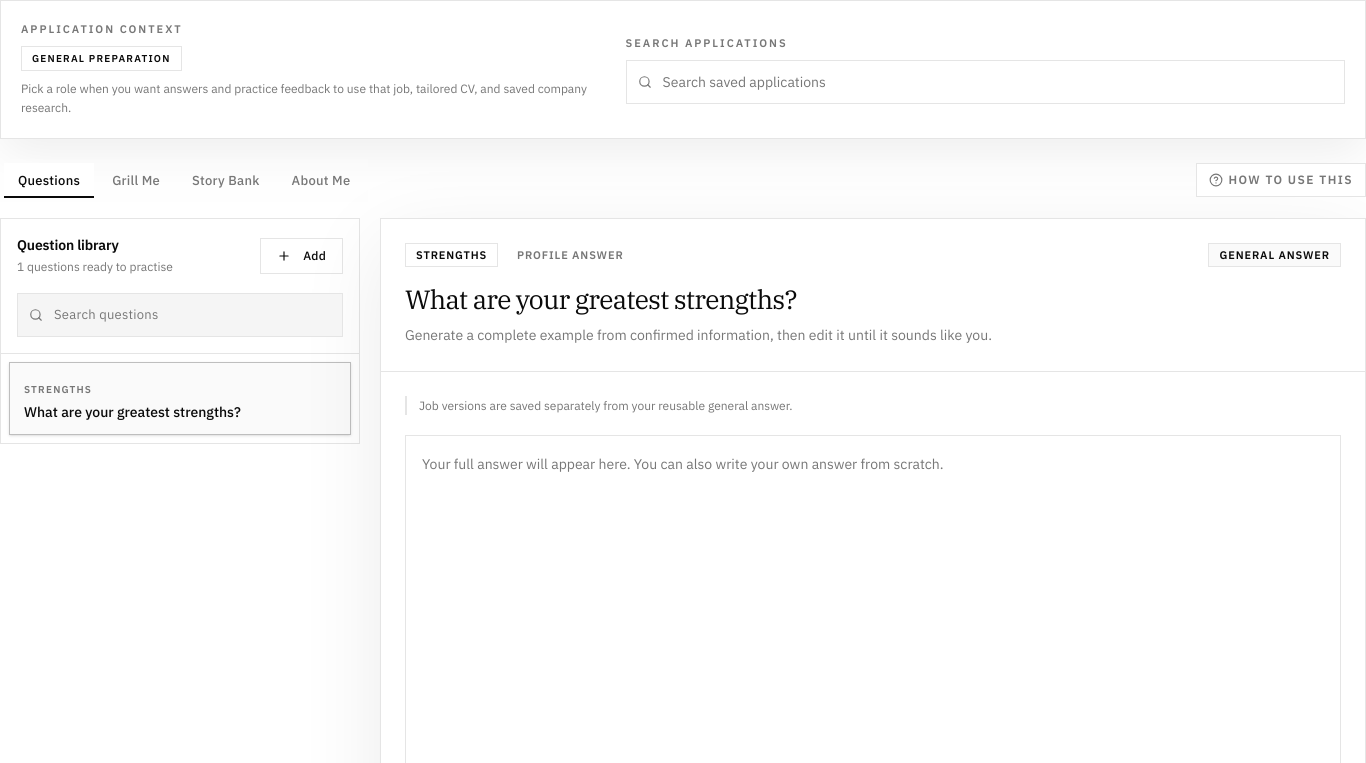
InterviewWorkspace › shows tailored CV facts for the selected job so they can be confirmed
The image size is (1366, 763).
Type "one" into the dropdown named "Application context" at (985, 82), box [626,60,1345,104]
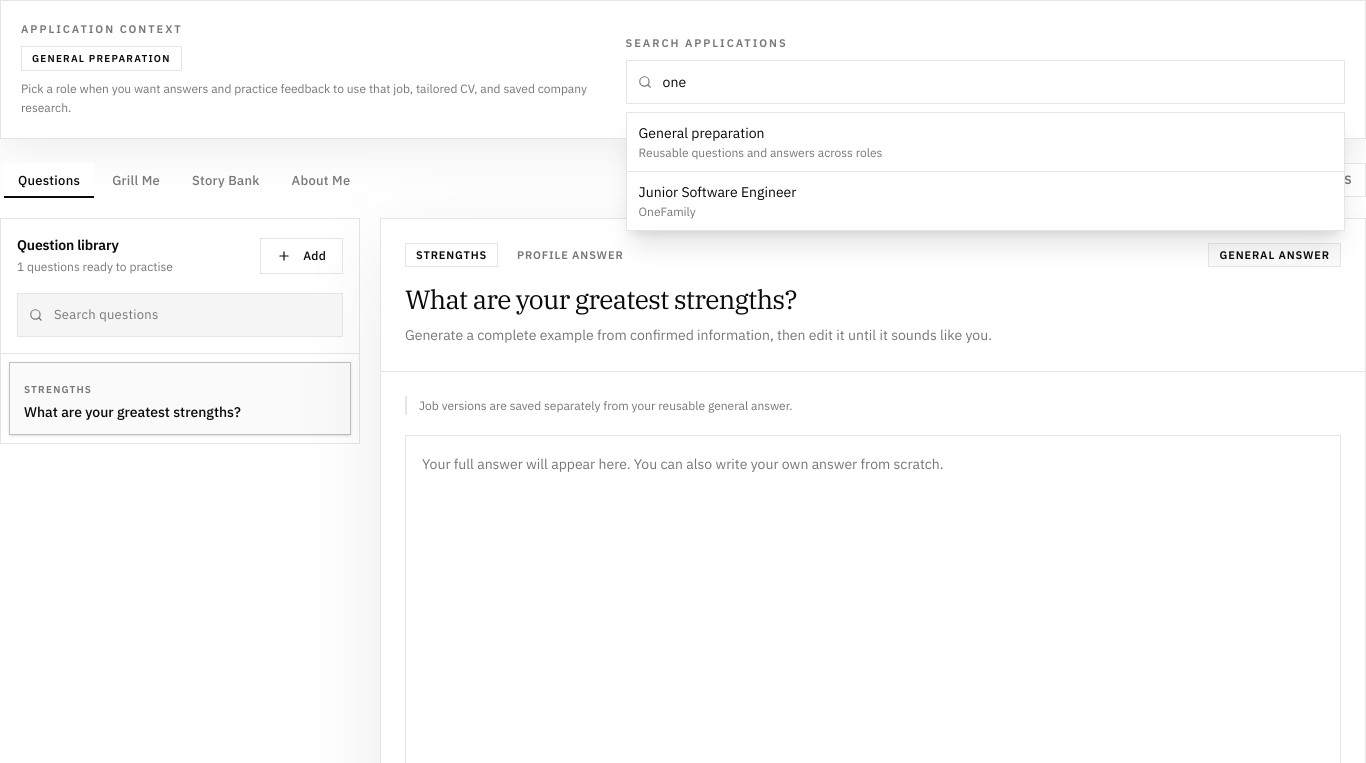
Click the button "Junior Software Engineer OneFamily" at (717, 192), box [627,172,1344,230]
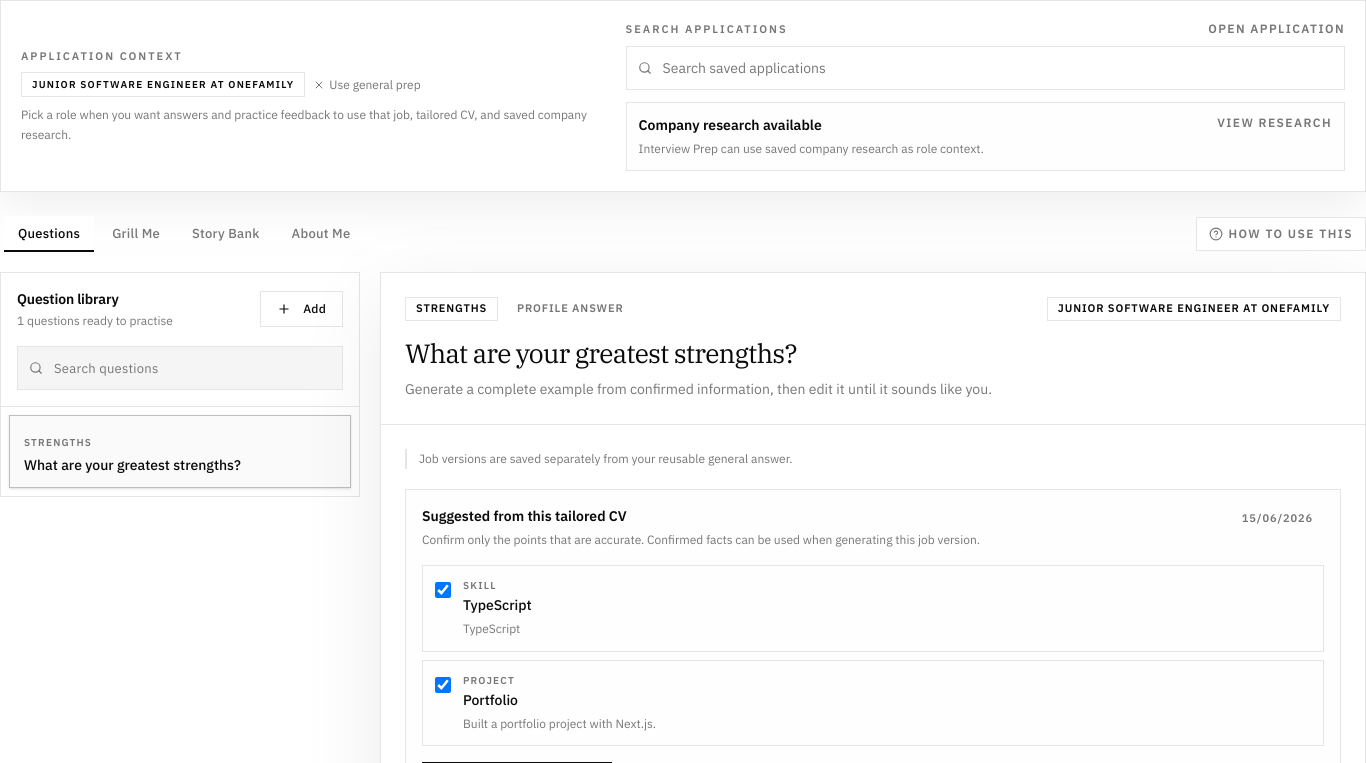
Now the text "Suggested from this tailored CV" is shown, box [422,507,627,525]
Now the text "Company research available" is shown, box [639,116,822,134]
Now the 1st text "TypeScript" is shown, box [463,595,532,615]
Click the tab "About Me" at (321, 234), box [278,216,364,252]
(page scrolled)
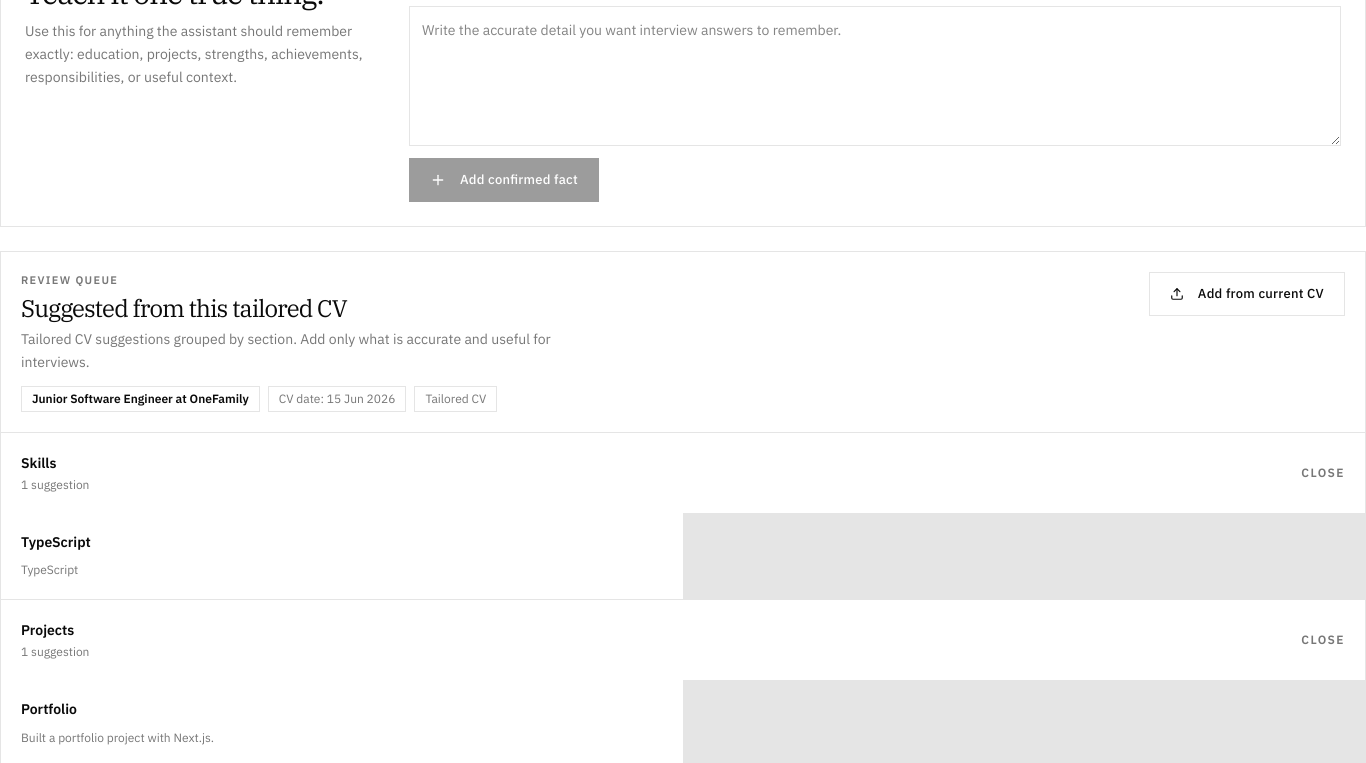
Now the heading "Suggested from this tailored CV" is shown, box [21,292,347,324]
Now the text "CV date: 15 Jun 2026" is shown, box [268,386,406,412]
Now the text "Skills" is shown, box [21,454,56,472]
